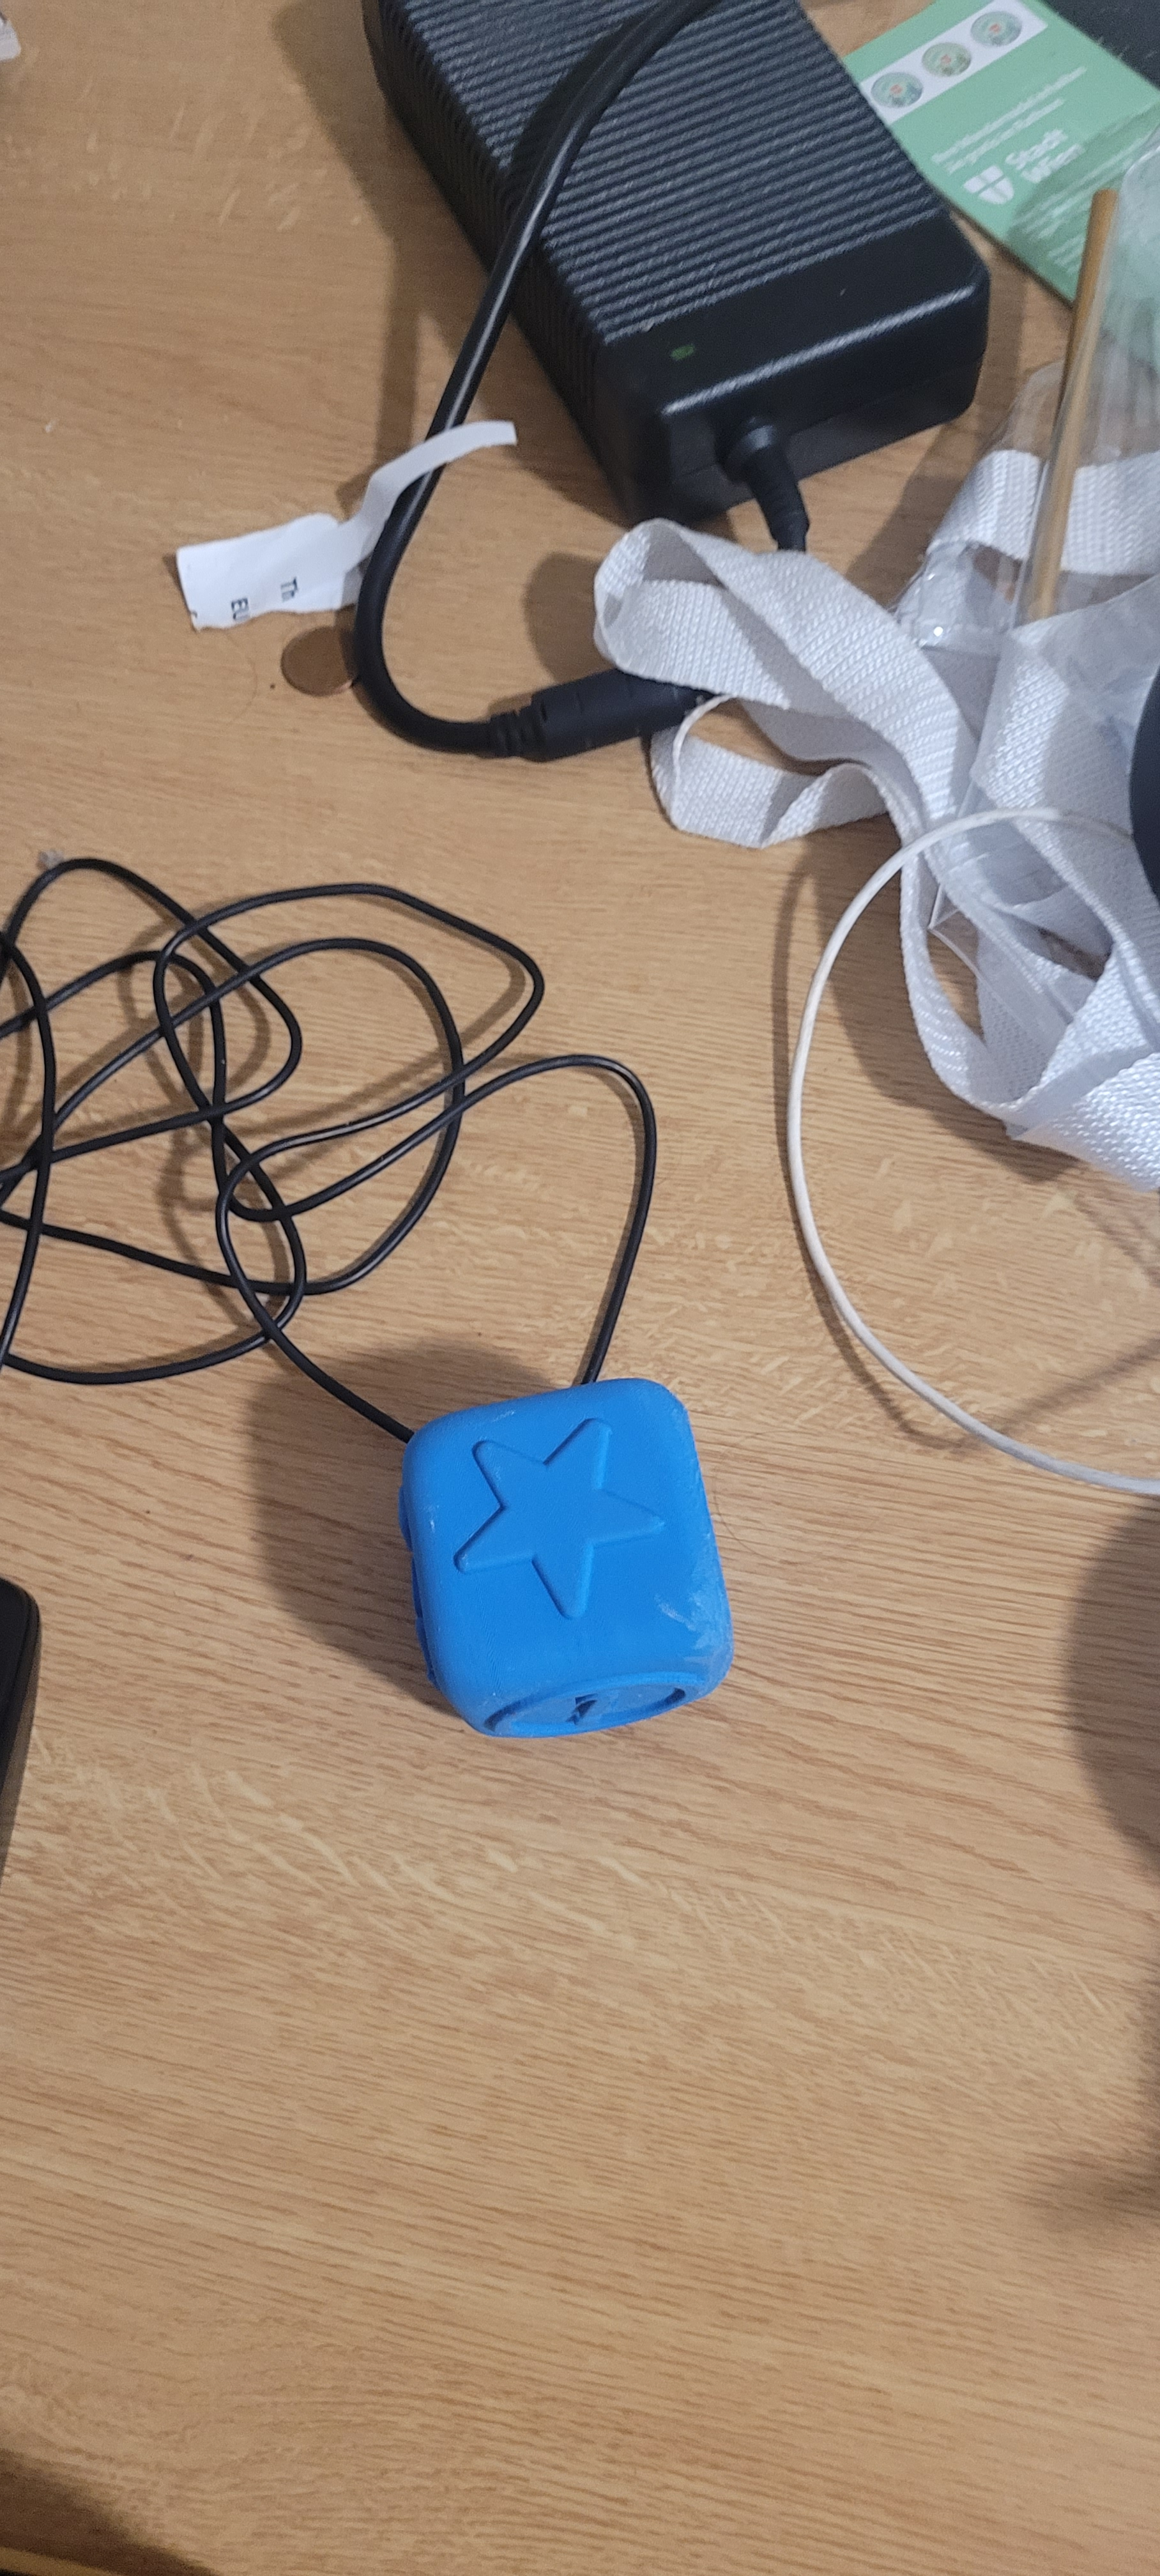Star: (414, 1373, 652, 1649)
